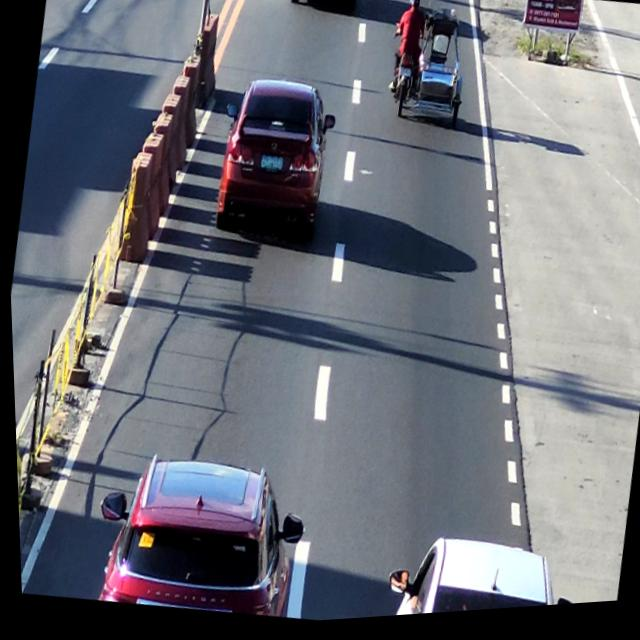Car: (85, 440, 313, 633), (211, 70, 342, 252), (376, 527, 577, 621), (288, 0, 368, 19)
License-Plate: (255, 156, 285, 181)
Tricycle: (382, 0, 479, 131)
